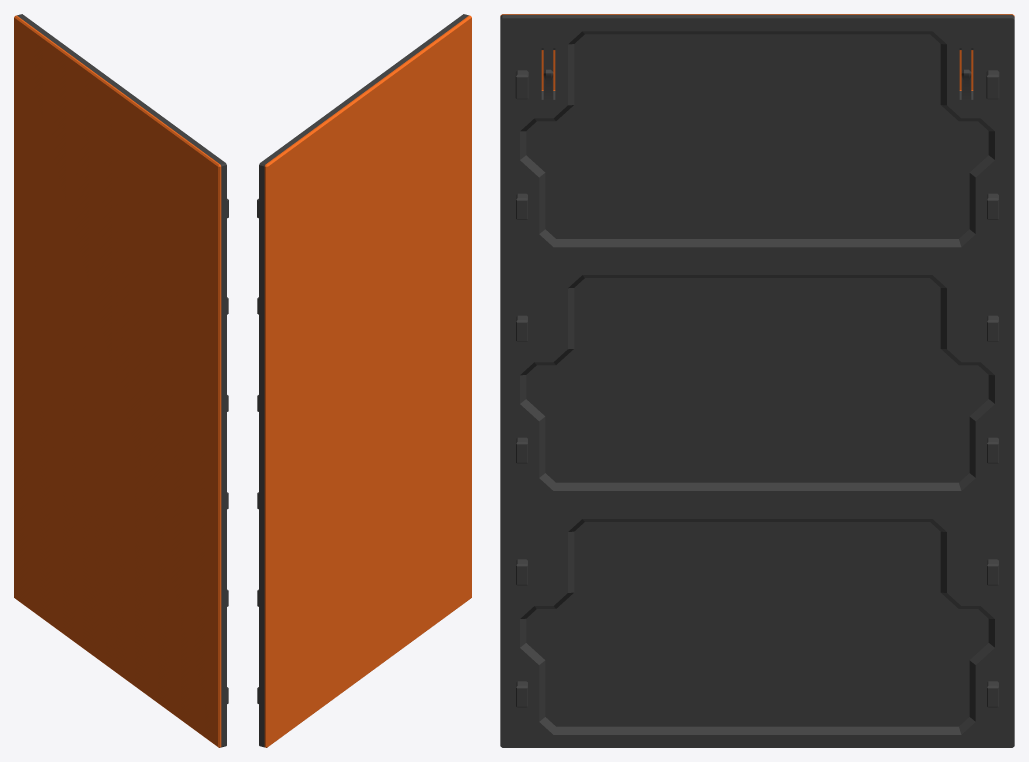
The model's file is SideCover_115-3H.lib.glb.
3 views of the same model, side by side, from view 1: azimuth 30°, elevation 25°; view 2: azimuth 150°, elevation 25°; view 3: azimuth 270°, elevation 25° (orthographic). The views are drawn at different scales.
Visible parts, largest first — view 1: SideCover_115-3H; view 2: SideCover_115-3H; view 3: SideCover_115-3H.
Boxes of the visible parts, <box> form: SideCover_115-3H: <box>14,14,228,747</box>; SideCover_115-3H: <box>257,14,471,747</box>; SideCover_115-3H: <box>500,14,1014,747</box>.
Size of the model in its own units: 5.05 by 168 by 107.
